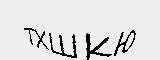К: (84, 32, 110, 60)
Т: (25, 28, 36, 46)
Х: (37, 29, 47, 48)
Ш: (51, 32, 78, 59)
Ю: (112, 29, 137, 54)
